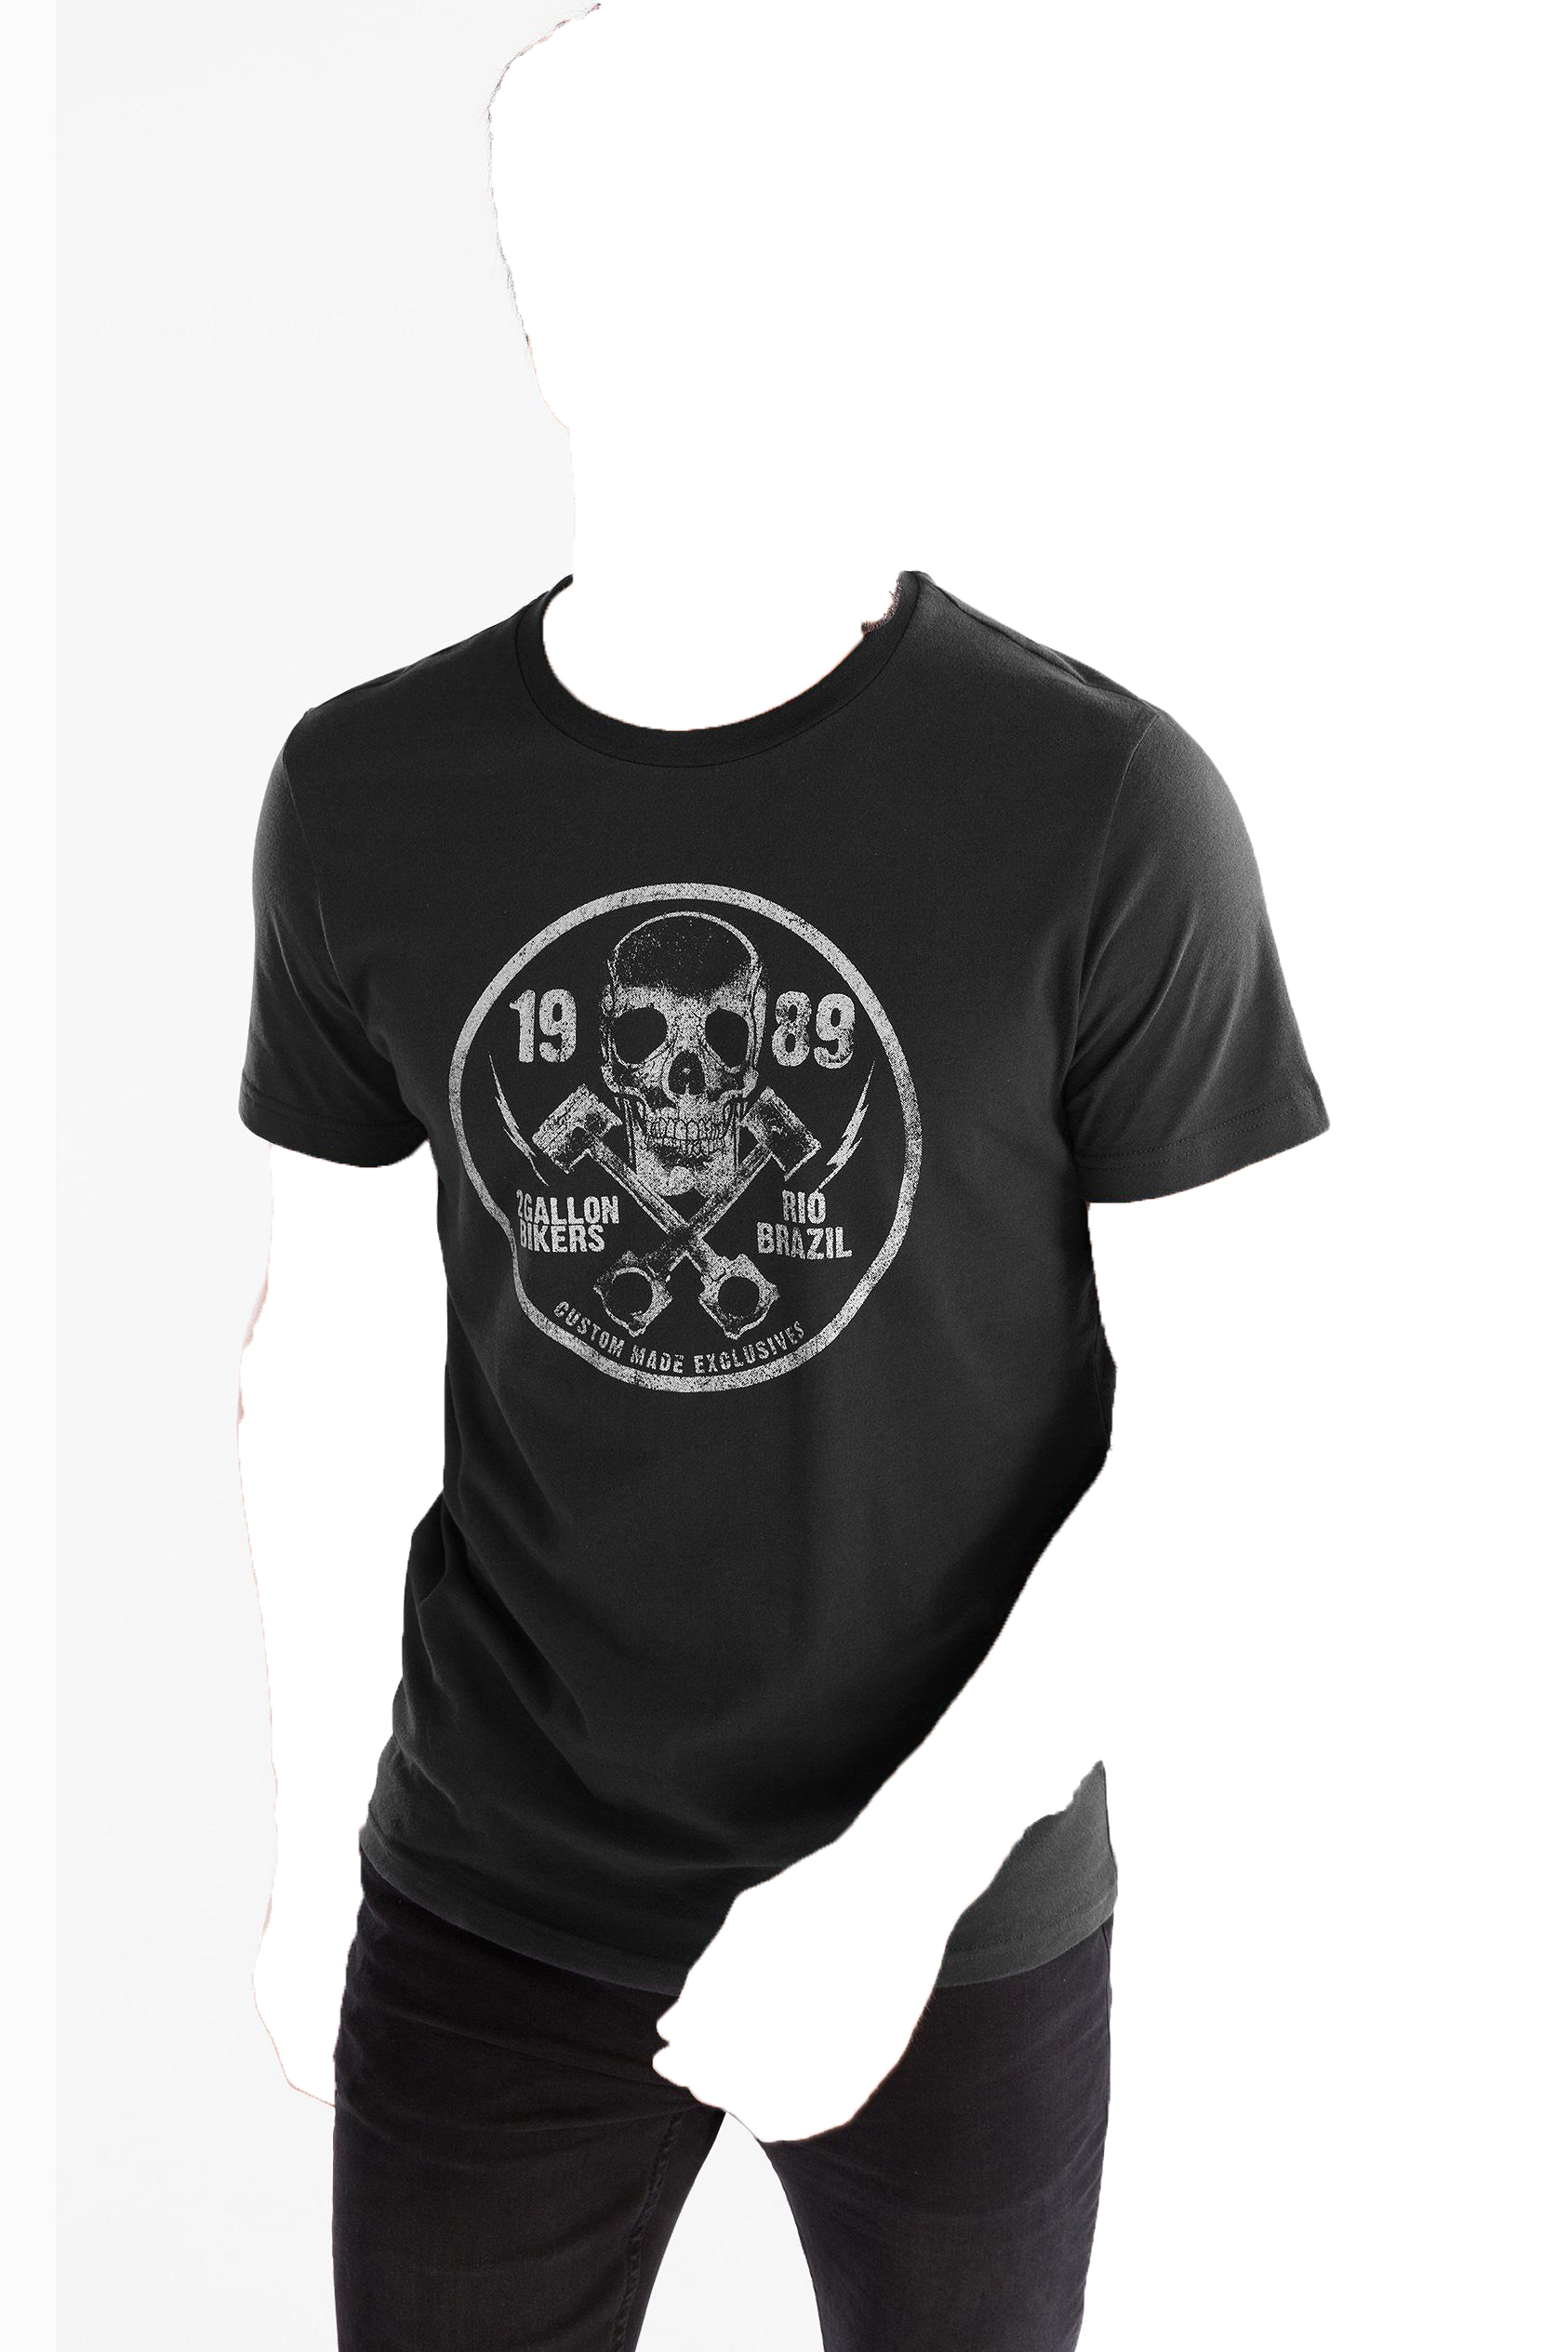teeshirt: (199, 556, 1362, 2016)
